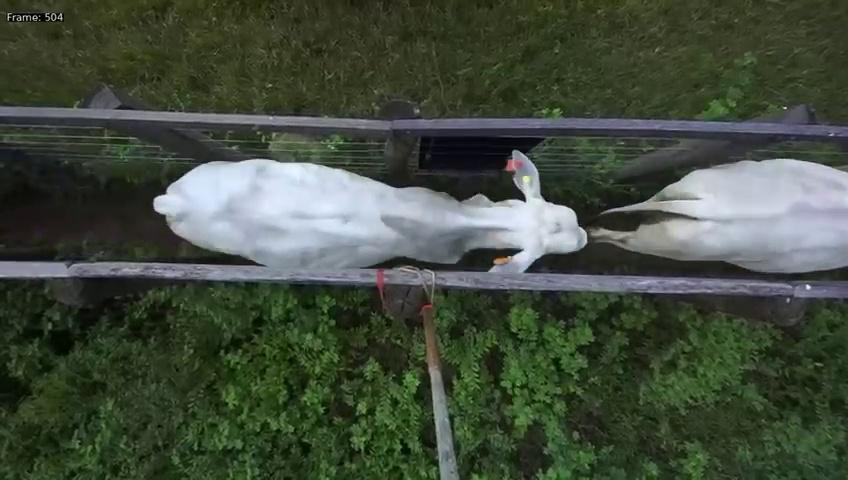cattle: (147, 135, 591, 273)
